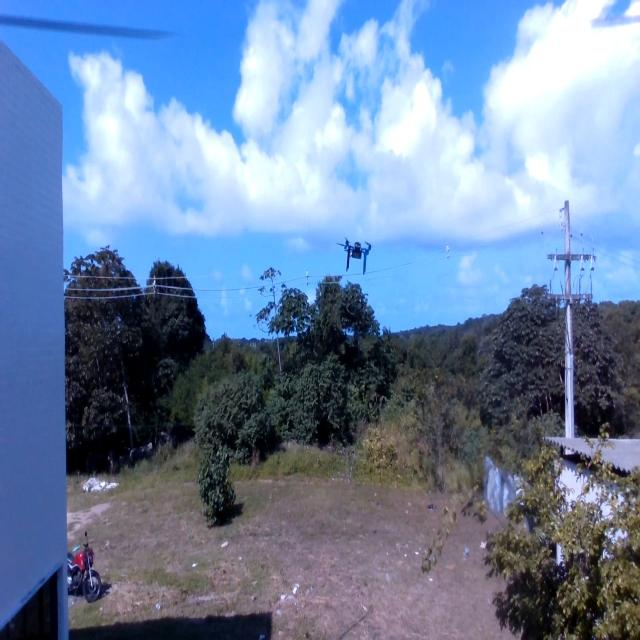-uav-: (329, 218, 379, 292)
